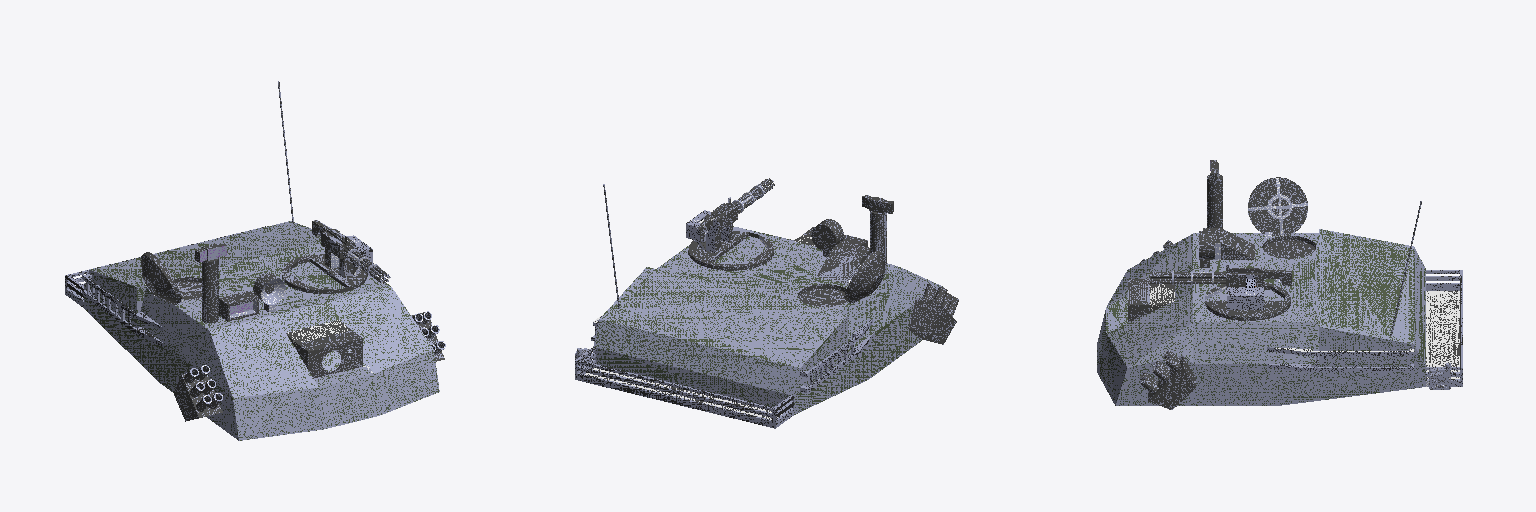
Rendered from tank2.obj.
The picture shows the model from 3 angles: view 1: azimuth 30°, elevation 25°; view 2: azimuth 150°, elevation 25°; view 3: azimuth 270°, elevation 25°; orthographic projection.
Visible parts, largest first — view 1: SketchUp.826_ID1915, SketchUp_ID3, SketchUp.1092_ID4126, SketchUp.1124_ID4382, SketchUp.1114_ID4302, SketchUp.048_ID439, SketchUp.026_ID254, SketchUp.1093_ID4134, SketchUp.1028_ID3610, SketchUp.1108_ID4254; view 2: SketchUp.826_ID1915, SketchUp.1158_ID4656, SketchUp.026_ID254, SketchUp.1092_ID4126, SketchUp.1108_ID4254, SketchUp.1124_ID4382, SketchUp.1114_ID4302, SketchUp.048_ID439, SketchUp.1113_ID4294, SketchUp.1093_ID4134, SketchUp.1103_ID4214, SketchUp.1156_ID4640 (+1 smaller); view 3: SketchUp.826_ID1915, SketchUp.1156_ID4640, SketchUp.1114_ID4302, SketchUp.1122_ID4366, SketchUp_ID3, SketchUp.1092_ID4126, SketchUp.681_ID723, SketchUp.1158_ID4656, SketchUp.1113_ID4294, SketchUp.1028_ID3610, SketchUp.1108_ID4254, SketchUp.048_ID439 (+1 smaller).
Boxes of the visible parts, <box> form: SketchUp.826_ID1915: <box>84,221,439,440</box>; SketchUp_ID3: <box>286,320,362,378</box>; SketchUp.1092_ID4126: <box>282,254,367,293</box>; SketchUp.1124_ID4382: <box>82,274,162,346</box>; SketchUp.1114_ID4302: <box>141,252,181,304</box>; SketchUp.048_ID439: <box>202,244,218,323</box>; SketchUp.026_ID254: <box>174,373,222,421</box>; SketchUp.1093_ID4134: <box>289,262,344,288</box>; SketchUp.1028_ID3610: <box>313,220,354,258</box>; SketchUp.1108_ID4254: <box>219,291,258,321</box>; SketchUp.826_ID1915: <box>593,226,943,414</box>; SketchUp.1158_ID4656: <box>575,347,793,428</box>; SketchUp.026_ID254: <box>908,298,956,344</box>; SketchUp.1092_ID4126: <box>688,231,773,270</box>; SketchUp.1108_ID4254: <box>817,241,869,283</box>; SketchUp.1124_ID4382: <box>800,319,873,392</box>; SketchUp.1114_ID4302: <box>844,250,884,303</box>; SketchUp.048_ID439: <box>869,197,886,274</box>; SketchUp.1113_ID4294: <box>798,284,846,306</box>; SketchUp.1093_ID4134: <box>713,236,766,263</box>; SketchUp.1103_ID4214: <box>811,219,843,250</box>; SketchUp.1156_ID4640: <box>585,368,781,419</box>; SketchUp.826_ID1915: <box>1097,229,1425,405</box>; SketchUp.1156_ID4640: <box>1426,291,1459,378</box>; SketchUp.1114_ID4302: <box>1248,177,1307,236</box>; SketchUp.1122_ID4366: <box>1267,348,1413,371</box>; SketchUp_ID3: <box>1128,279,1174,322</box>; SketchUp.1092_ID4126: <box>1205,282,1290,320</box>; SketchUp.681_ID723: <box>1148,356,1195,409</box>; SketchUp.1158_ID4656: <box>1426,270,1462,386</box>; SketchUp.1113_ID4294: <box>1262,236,1315,258</box>; SketchUp.1028_ID3610: <box>1226,265,1291,286</box>; SketchUp.1108_ID4254: <box>1203,228,1254,259</box>; SketchUp.048_ID439: <box>1207,163,1222,228</box>.
Size of the model in its own units: 2.62 by 2.05 by 3.38.